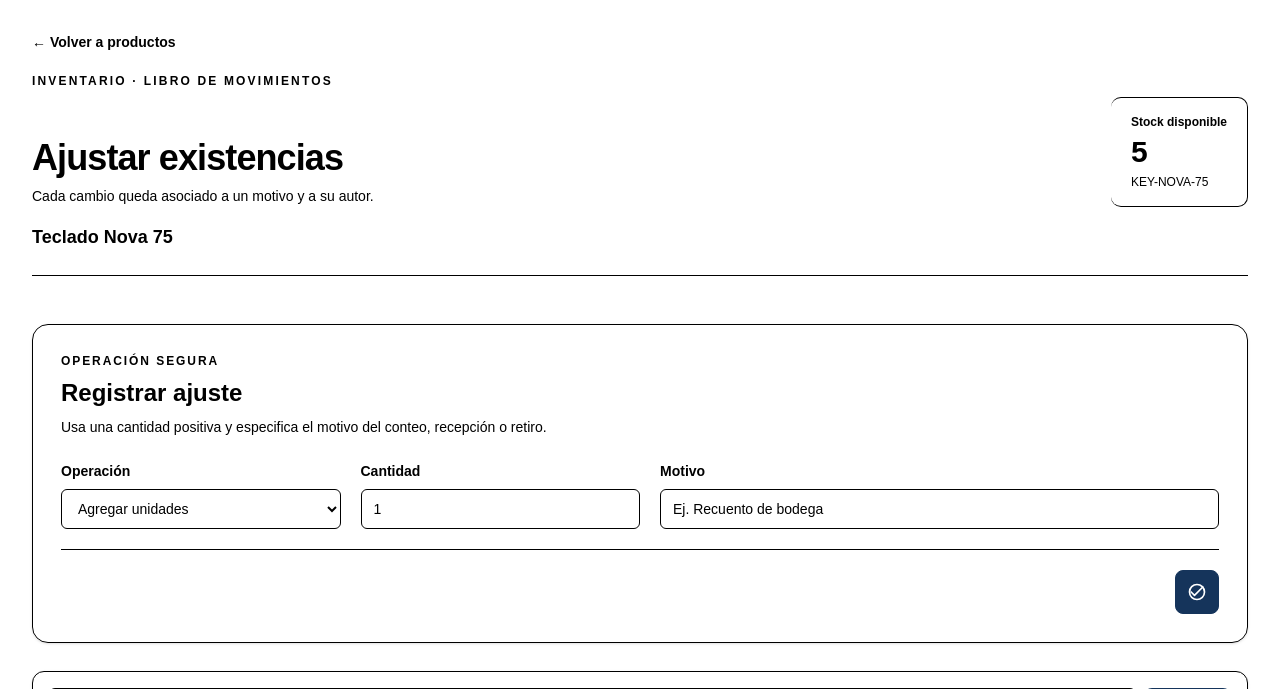
Scenario: inventory administration › does not submit an empty reason
Expected: the text "Teclado Nova 75" is shown, [32, 227, 173, 247]
Click the button named "Registrar ajuste": {"x": 1197, "y": 592} [1175, 570, 1219, 614]
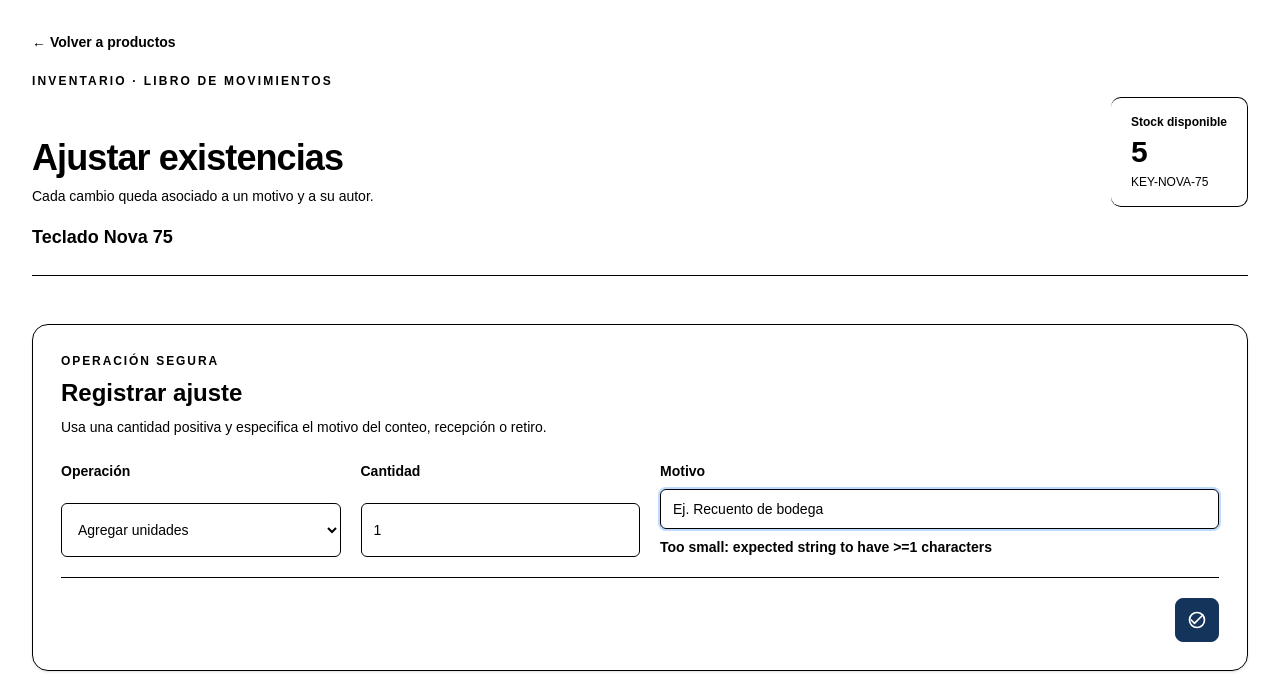
Now the message reads "Too small: expected string to have >=1 characters", box [660, 539, 992, 555]
